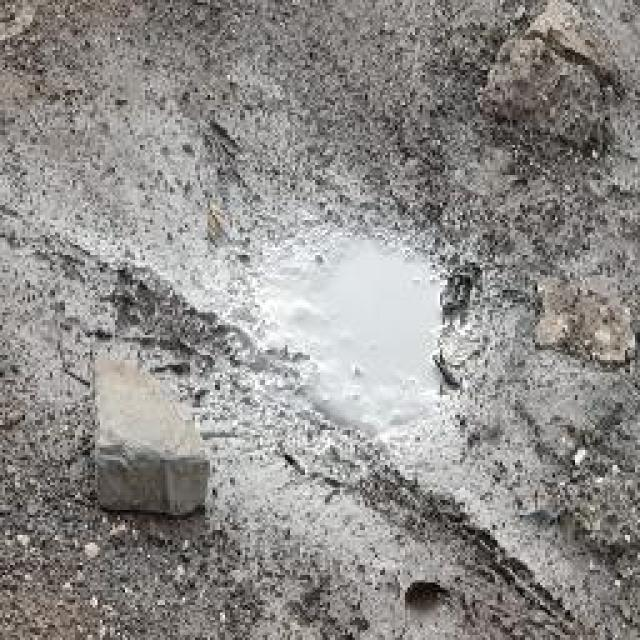puddle: (256, 234, 466, 439)
